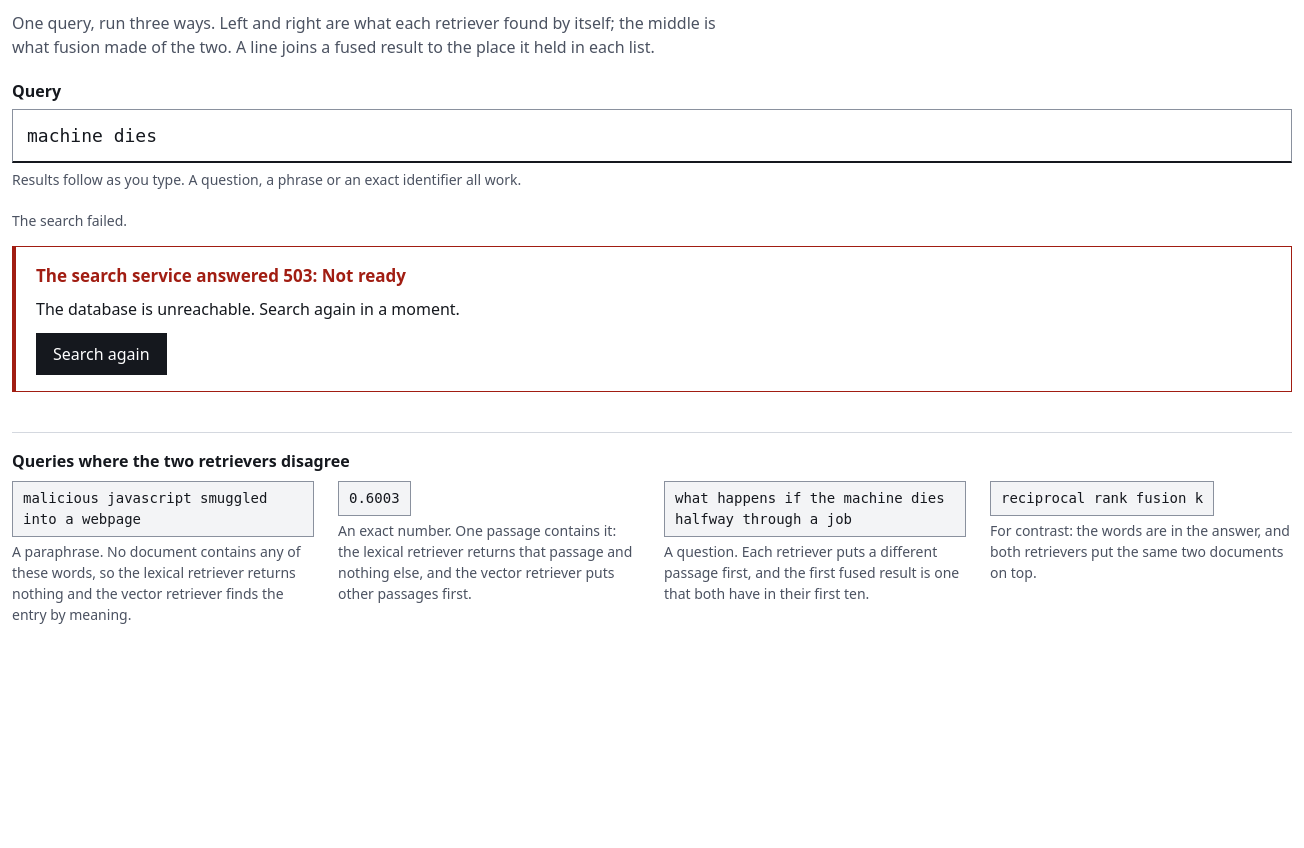
Scenario: the comparison view › shows one failure for the three requests and repeats only the one that failed
The width and height of the screenshot is (1304, 848).
Expected: the heading "The search service answered 503: Not ready" is shown, left=36, top=263, right=406, bottom=288
What coordinates should you click on to do the following:
click the button "Search again"
I would click on:
 (101, 354)
Its box is left=36, top=332, right=167, bottom=374.
(page scrolled)
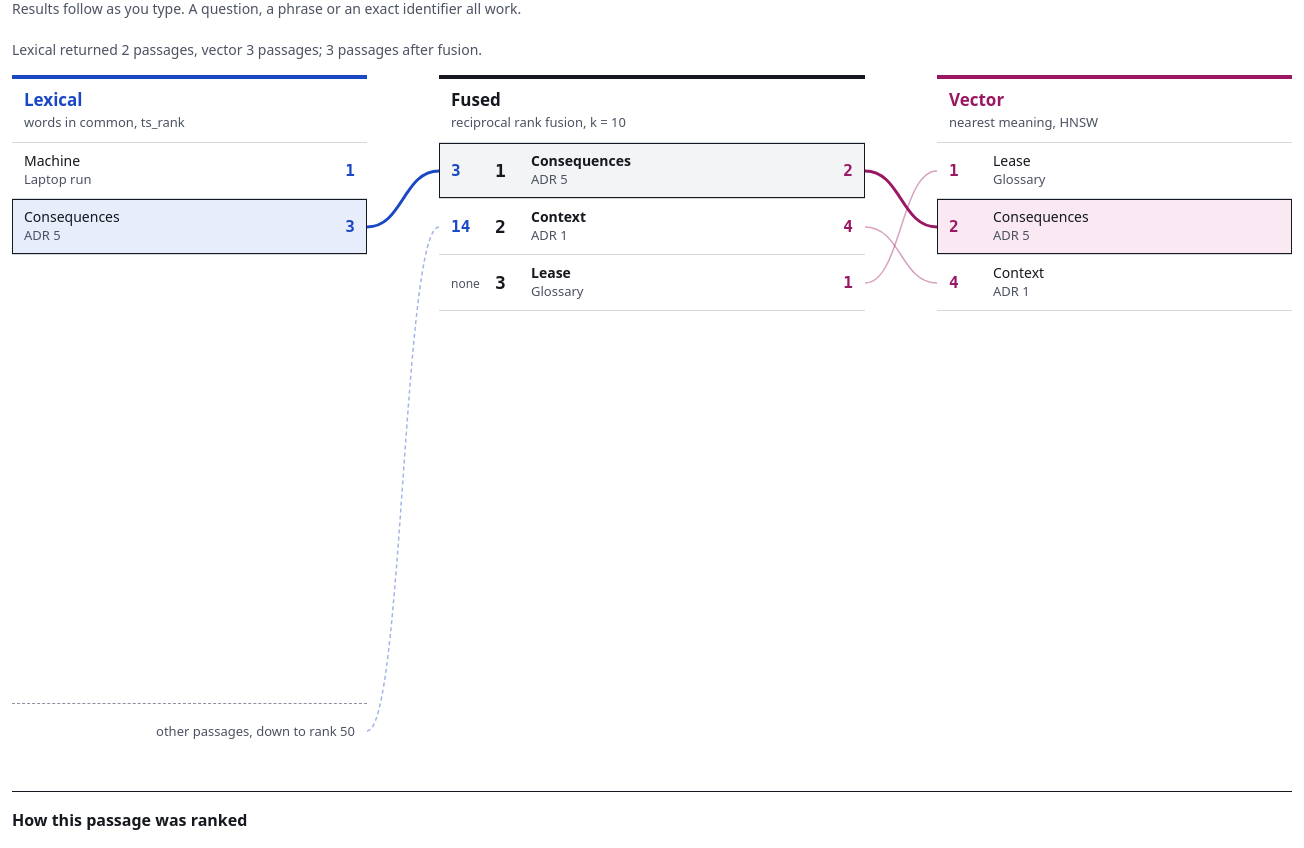
Expected: the element "Fused" is shown, left=439, top=75, right=865, bottom=311
